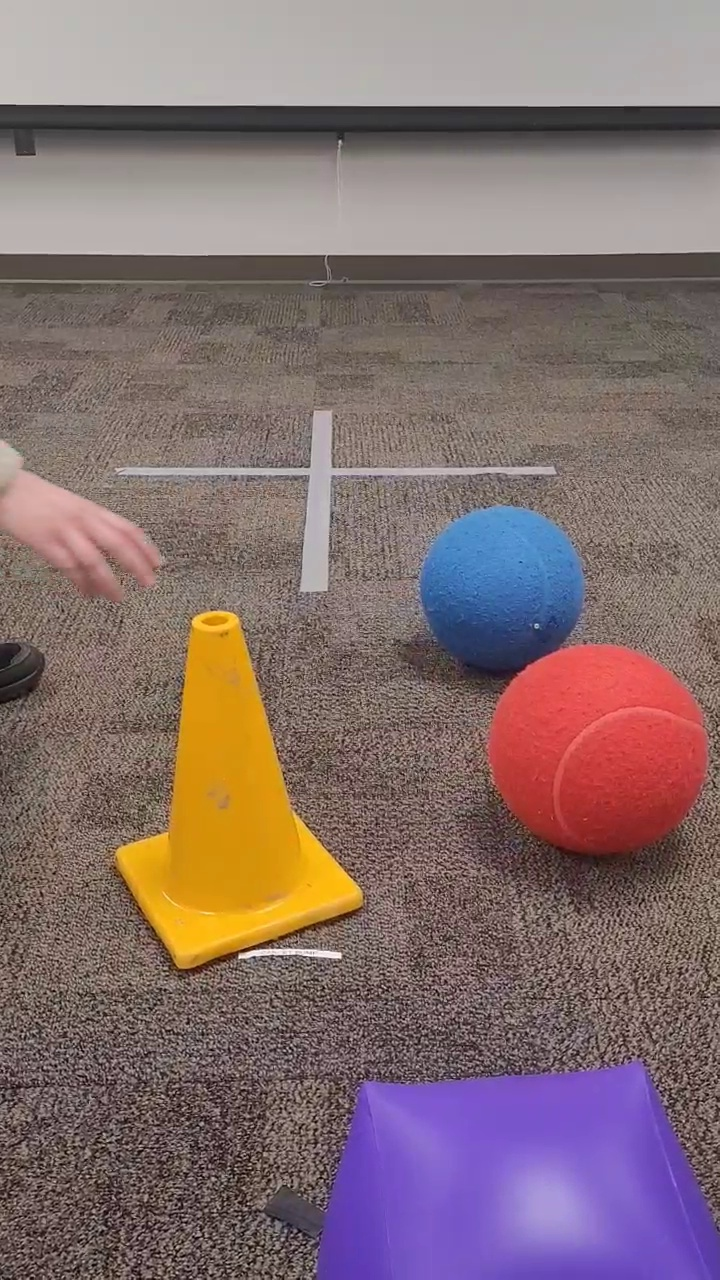ball: (479, 635, 709, 863), (418, 500, 588, 674)
cone: (103, 603, 369, 982)
cube: (307, 1052, 719, 1280)
foot: (1, 624, 48, 713)
hand: (1, 431, 170, 606)
